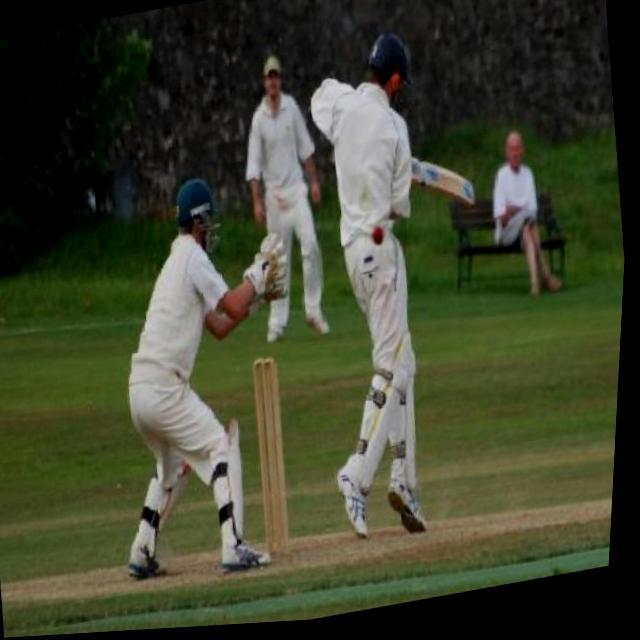-: (366, 200, 411, 278)
